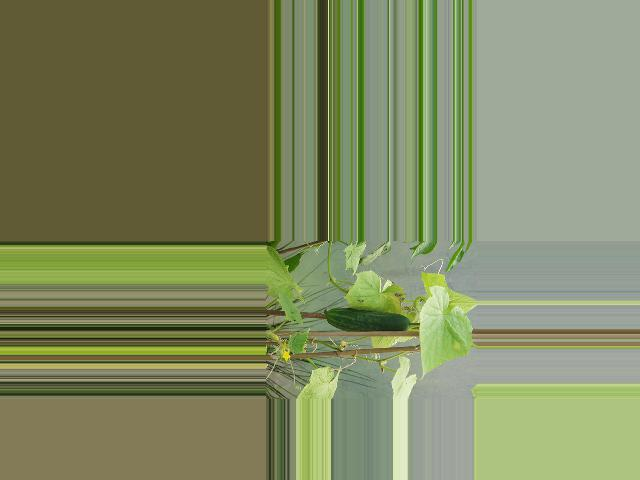cucumber: (324, 307, 410, 332)
